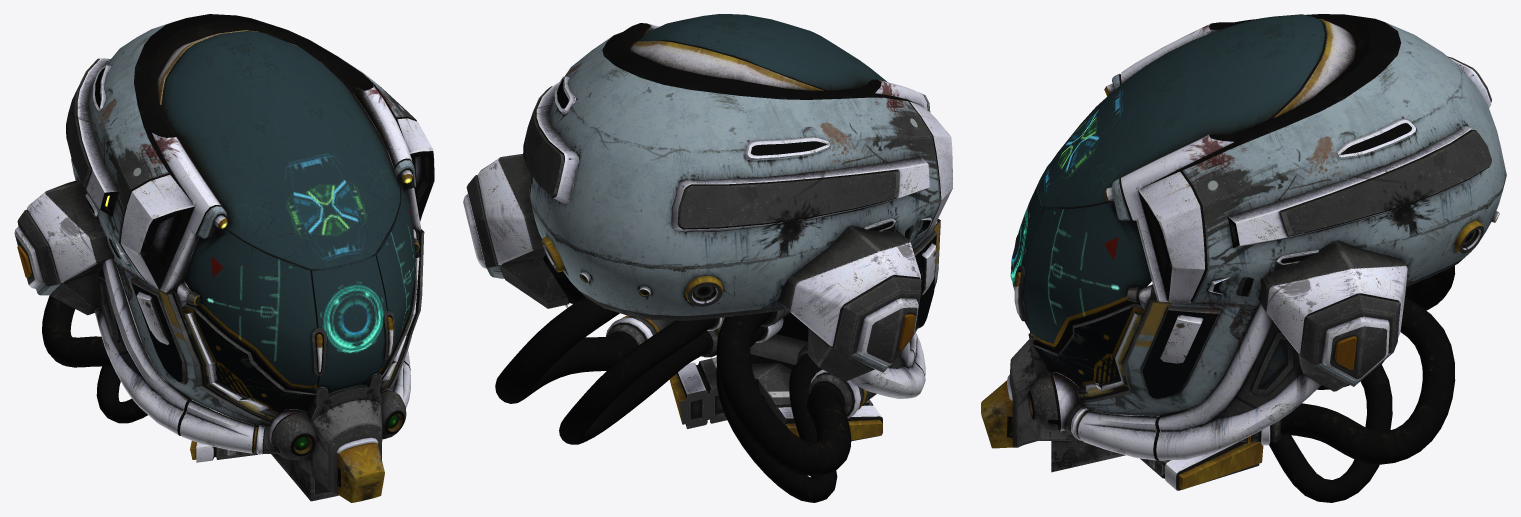
Rendered from DamagedHelmet.glb.
3 renders of one model, left to right at view 1: azimuth 30°, elevation 25°; view 2: azimuth 150°, elevation 25°; view 3: azimuth 270°, elevation 25°, orthographic. The views are drawn at different scales.
Visible parts, largest first — view 1: node_damagedHelmet_-6514; view 2: node_damagedHelmet_-6514; view 3: node_damagedHelmet_-6514.
Part boxes in pixels (x1=…): node_damagedHelmet_-6514: x1=14, y1=14, x2=434, y2=502; node_damagedHelmet_-6514: x1=463, y1=14, x2=952, y2=502; node_damagedHelmet_-6514: x1=981, y1=14, x2=1506, y2=502.
Bounding box in the file's own units: 1.89 × 1.8 × 2.
Materials: 1 (1 with a texture image).
